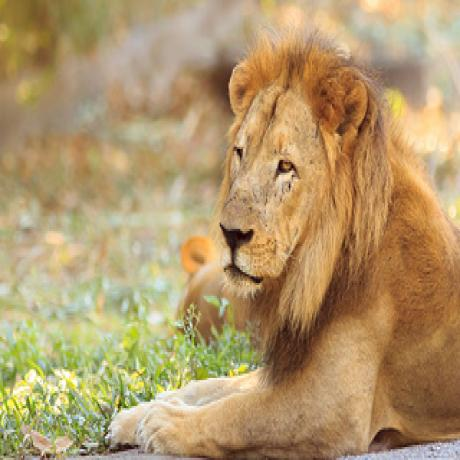Lion: (109, 39, 460, 460)
